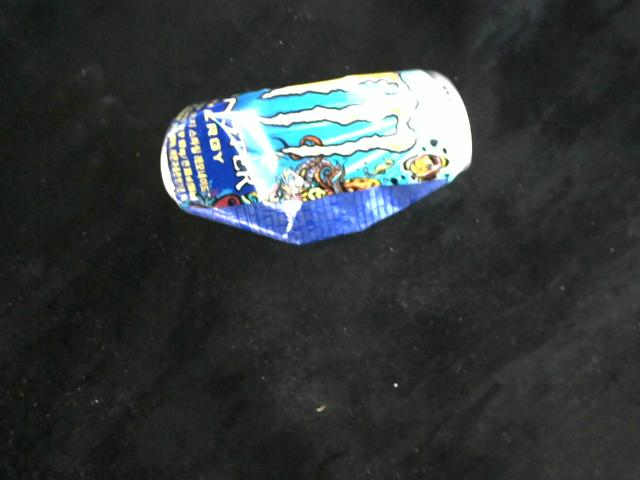can: (165, 65, 477, 247)
